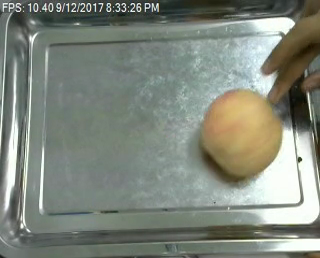Peach: (199, 87, 282, 178)
